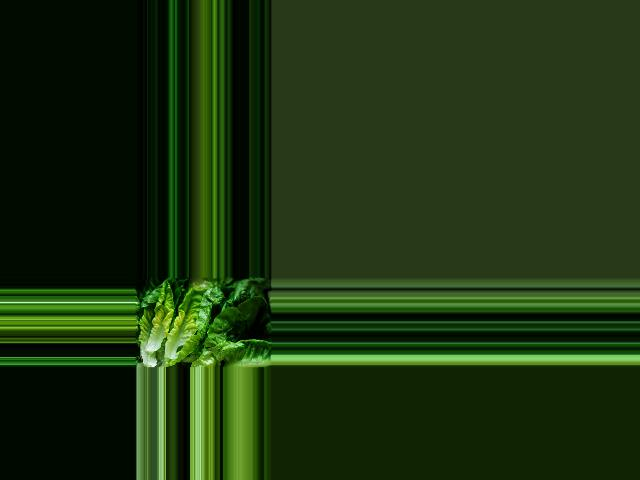lettuce: (138, 283, 225, 368)
